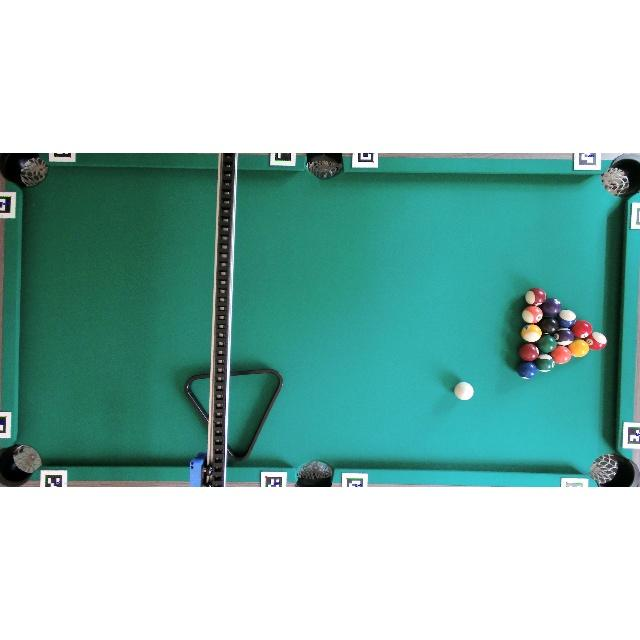cue ball: (454, 381, 474, 401)
other: (537, 334, 558, 354), (568, 339, 590, 358), (518, 343, 540, 362), (586, 332, 607, 351), (551, 345, 572, 364), (572, 320, 592, 339), (522, 306, 543, 324), (521, 324, 542, 342), (525, 288, 546, 306), (541, 298, 562, 316), (538, 316, 559, 334), (558, 309, 577, 328), (554, 328, 574, 346), (535, 354, 555, 372), (517, 361, 538, 378)
